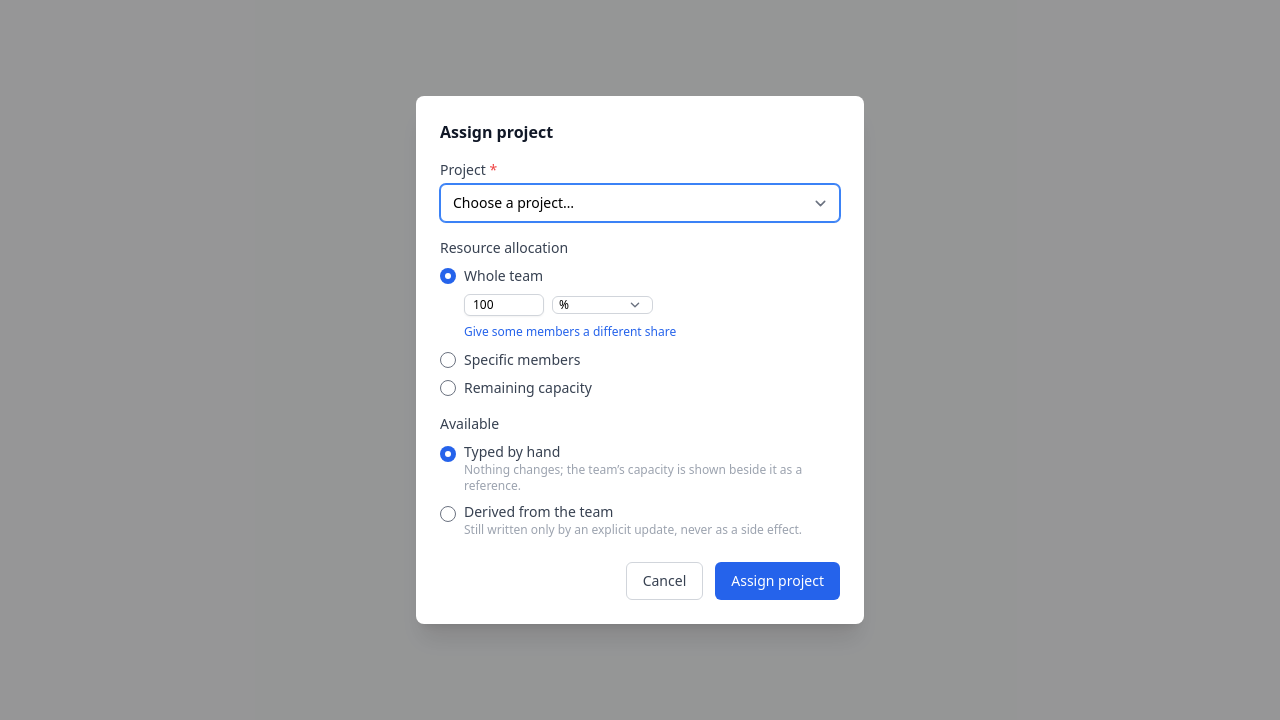
Test: AssignProjectModal › shows what the other projects leave of each member
Click the radio button labelled "Remaining capacity".
click(448, 388)  # box [440,380,456,396]
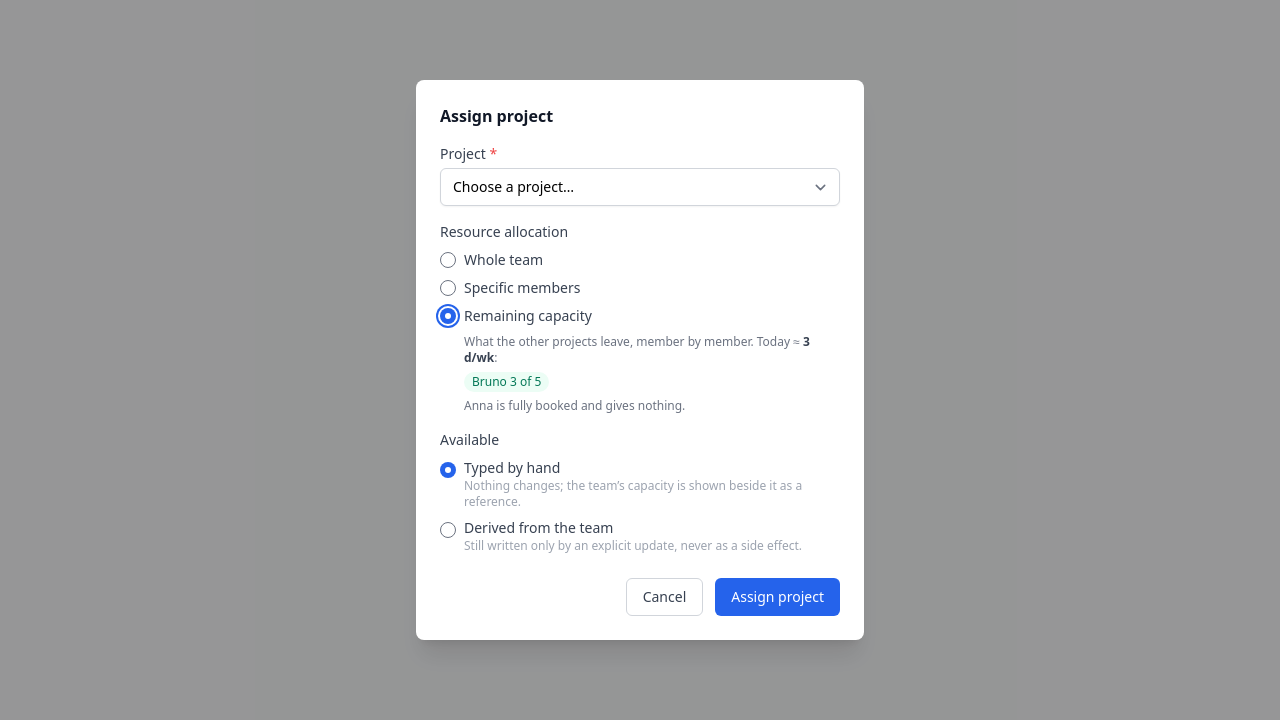
expect the message shows "Today ≈ 3 d/wk": met, box [464,334,840,414]
expect the message shows "Bruno 3 of 5": met, box [464,334,840,414]
expect the message shows "Anna is fully booked and gives nothing.": met, box [464,334,840,414]
